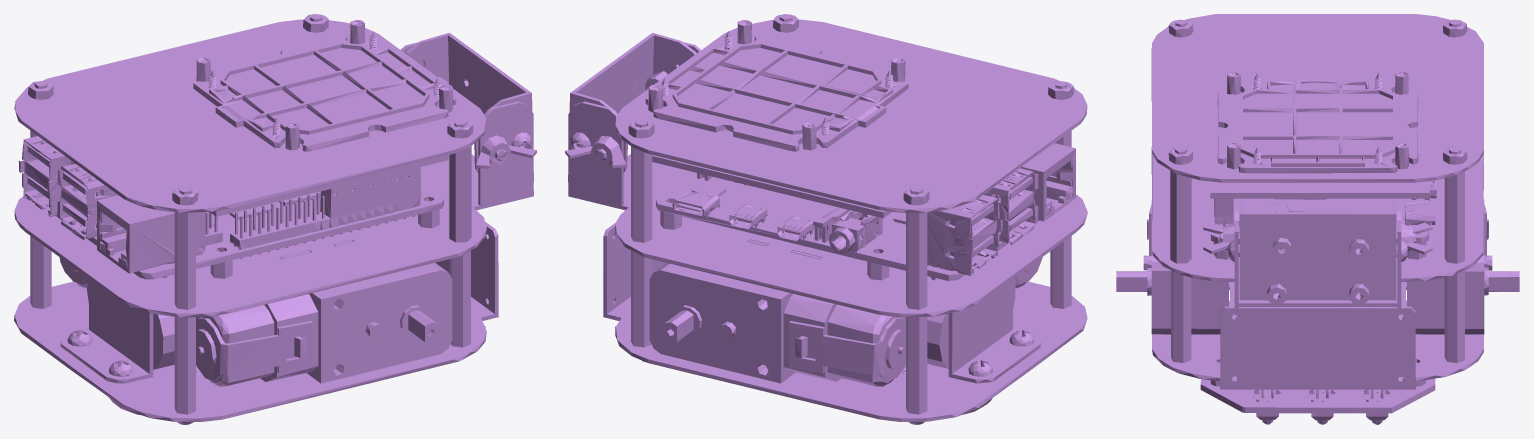
Rendered from base_link_old.dae.
3 renders of one model, left to right at view 1: azimuth 30°, elevation 25°; view 2: azimuth 150°, elevation 25°; view 3: azimuth 270°, elevation 25°, orthographic. The views are drawn at different scales.
Visible parts, largest first — view 1: node; view 2: node; view 3: node.
Boxes of the visible parts, bbox=[...] form: node: bbox=[14, 14, 536, 424]; node: bbox=[565, 14, 1087, 424]; node: bbox=[1116, 14, 1519, 424].
Size of the model in its own units: 0.1203 by 0.103 by 0.0781.
